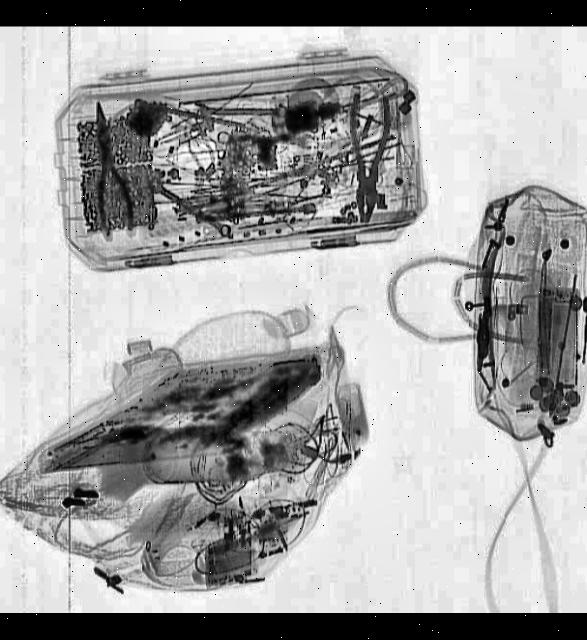Pliers: (82, 100, 134, 238), (339, 94, 390, 225)
Wrench: (136, 165, 242, 258), (215, 128, 310, 152), (189, 103, 284, 120)
